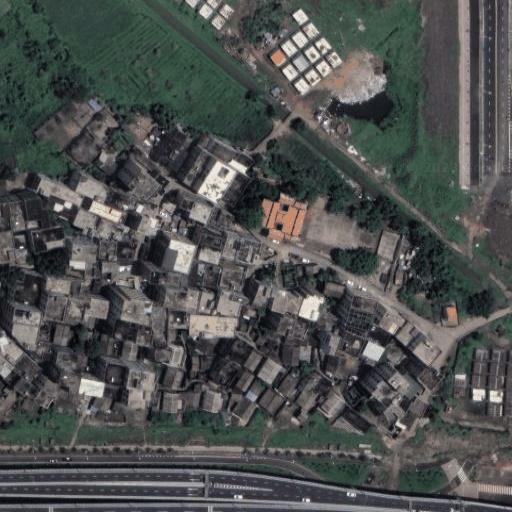building: (189, 152, 229, 197), (27, 170, 76, 202), (64, 130, 104, 169), (148, 122, 183, 166), (2, 301, 32, 343), (486, 350, 504, 417), (179, 307, 229, 331), (54, 273, 81, 315), (317, 343, 353, 373), (180, 147, 208, 185), (3, 267, 34, 301), (119, 162, 151, 194), (215, 331, 247, 363), (200, 351, 233, 382), (213, 164, 241, 199), (470, 349, 488, 402), (22, 372, 52, 403), (402, 329, 433, 359), (66, 169, 99, 197), (363, 373, 394, 402), (114, 359, 148, 385), (23, 219, 57, 244), (306, 383, 335, 412), (196, 200, 225, 229), (434, 451, 463, 480), (208, 284, 240, 310), (78, 193, 114, 216), (111, 292, 143, 317), (373, 335, 402, 362), (16, 193, 42, 223), (101, 185, 132, 210), (281, 206, 306, 237), (5, 349, 33, 376), (91, 150, 119, 177), (197, 131, 228, 155), (376, 231, 400, 261), (376, 363, 402, 390), (36, 189, 65, 213), (258, 199, 280, 230), (370, 303, 396, 329), (87, 210, 114, 235), (408, 359, 435, 384), (227, 231, 252, 258), (289, 286, 314, 312), (64, 200, 90, 225), (334, 400, 361, 424), (502, 352, 512, 416), (389, 316, 414, 341), (249, 382, 274, 407), (248, 351, 272, 377), (225, 388, 249, 414), (35, 287, 58, 314), (42, 382, 70, 404), (15, 332, 40, 356), (210, 261, 236, 284), (32, 114, 58, 137), (334, 325, 356, 352), (337, 299, 364, 321), (67, 371, 96, 391), (94, 356, 117, 381), (353, 334, 375, 360), (393, 366, 413, 394), (0, 195, 19, 224), (106, 314, 129, 337), (398, 390, 421, 413), (180, 194, 203, 217), (244, 325, 268, 347), (125, 144, 149, 166), (227, 363, 248, 388), (341, 288, 370, 306), (118, 381, 144, 401), (77, 291, 100, 313), (286, 379, 308, 402), (267, 308, 288, 332), (155, 282, 179, 303), (374, 395, 396, 417), (213, 227, 231, 253), (39, 270, 61, 291), (188, 237, 212, 256), (243, 278, 262, 302), (150, 240, 169, 264), (160, 231, 186, 248), (193, 382, 213, 404), (291, 362, 311, 384), (128, 210, 149, 230), (53, 102, 74, 122), (268, 368, 288, 389), (339, 416, 361, 435), (223, 143, 245, 162), (164, 244, 183, 266), (282, 312, 301, 334), (194, 257, 211, 281), (334, 314, 359, 330), (63, 237, 87, 253), (189, 226, 213, 242), (50, 365, 70, 384), (289, 28, 308, 48), (303, 45, 322, 65), (233, 303, 251, 324), (185, 331, 206, 349), (316, 328, 334, 349), (281, 63, 300, 82), (160, 303, 179, 322), (314, 36, 332, 56), (92, 255, 110, 275), (127, 318, 144, 339), (277, 286, 294, 307), (188, 285, 205, 306), (151, 360, 167, 382), (273, 337, 289, 359), (111, 335, 129, 354), (301, 20, 319, 39), (89, 233, 107, 252), (236, 346, 253, 366), (48, 345, 69, 361), (153, 383, 169, 404), (314, 276, 336, 291), (268, 48, 286, 66), (292, 55, 310, 73), (262, 288, 280, 306), (451, 375, 465, 398), (45, 317, 60, 338), (110, 258, 124, 280), (280, 39, 297, 57), (236, 376, 253, 394), (337, 381, 354, 399), (10, 376, 29, 392), (292, 10, 309, 27), (304, 69, 321, 86), (400, 411, 417, 428), (141, 300, 157, 318), (107, 233, 123, 251), (181, 350, 203, 363), (81, 390, 96, 409), (177, 282, 191, 302), (294, 78, 310, 95), (187, 125, 203, 142), (75, 252, 90, 270), (278, 193, 297, 207), (4, 370, 20, 386), (315, 61, 331, 77), (219, 4, 235, 20), (84, 95, 100, 110), (267, 229, 285, 242), (326, 53, 341, 68), (198, 5, 213, 20), (144, 166, 159, 181), (74, 110, 89, 125), (99, 334, 113, 350), (288, 337, 301, 354), (141, 385, 152, 404), (162, 341, 173, 360), (444, 306, 456, 323), (270, 84, 284, 98), (211, 15, 225, 29), (221, 384, 235, 398), (287, 402, 301, 416), (5, 240, 18, 255), (177, 385, 190, 400), (144, 317, 156, 333), (141, 264, 157, 276), (156, 265, 171, 277), (181, 362, 198, 372), (152, 195, 166, 207), (275, 210, 287, 224), (146, 343, 161, 354), (90, 327, 101, 342), (395, 271, 406, 285), (401, 238, 415, 249), (294, 200, 308, 211), (67, 348, 78, 361), (170, 266, 180, 280), (187, 256, 197, 269), (75, 309, 86, 320), (63, 252, 75, 262), (264, 282, 277, 291), (124, 269, 133, 282), (398, 258, 406, 272), (207, 0, 221, 8), (83, 273, 92, 285), (160, 321, 168, 334), (104, 395, 113, 406), (296, 258, 310, 265), (284, 233, 296, 241), (146, 336, 156, 344), (169, 384, 178, 392), (184, 375, 190, 386)
